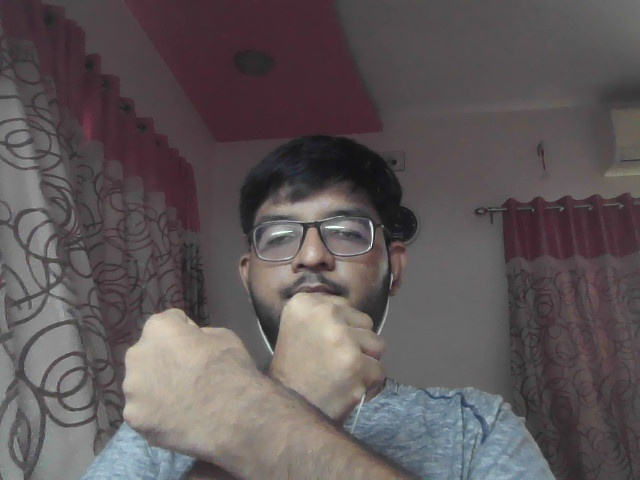પ્રેમ: (106, 283, 440, 480)
